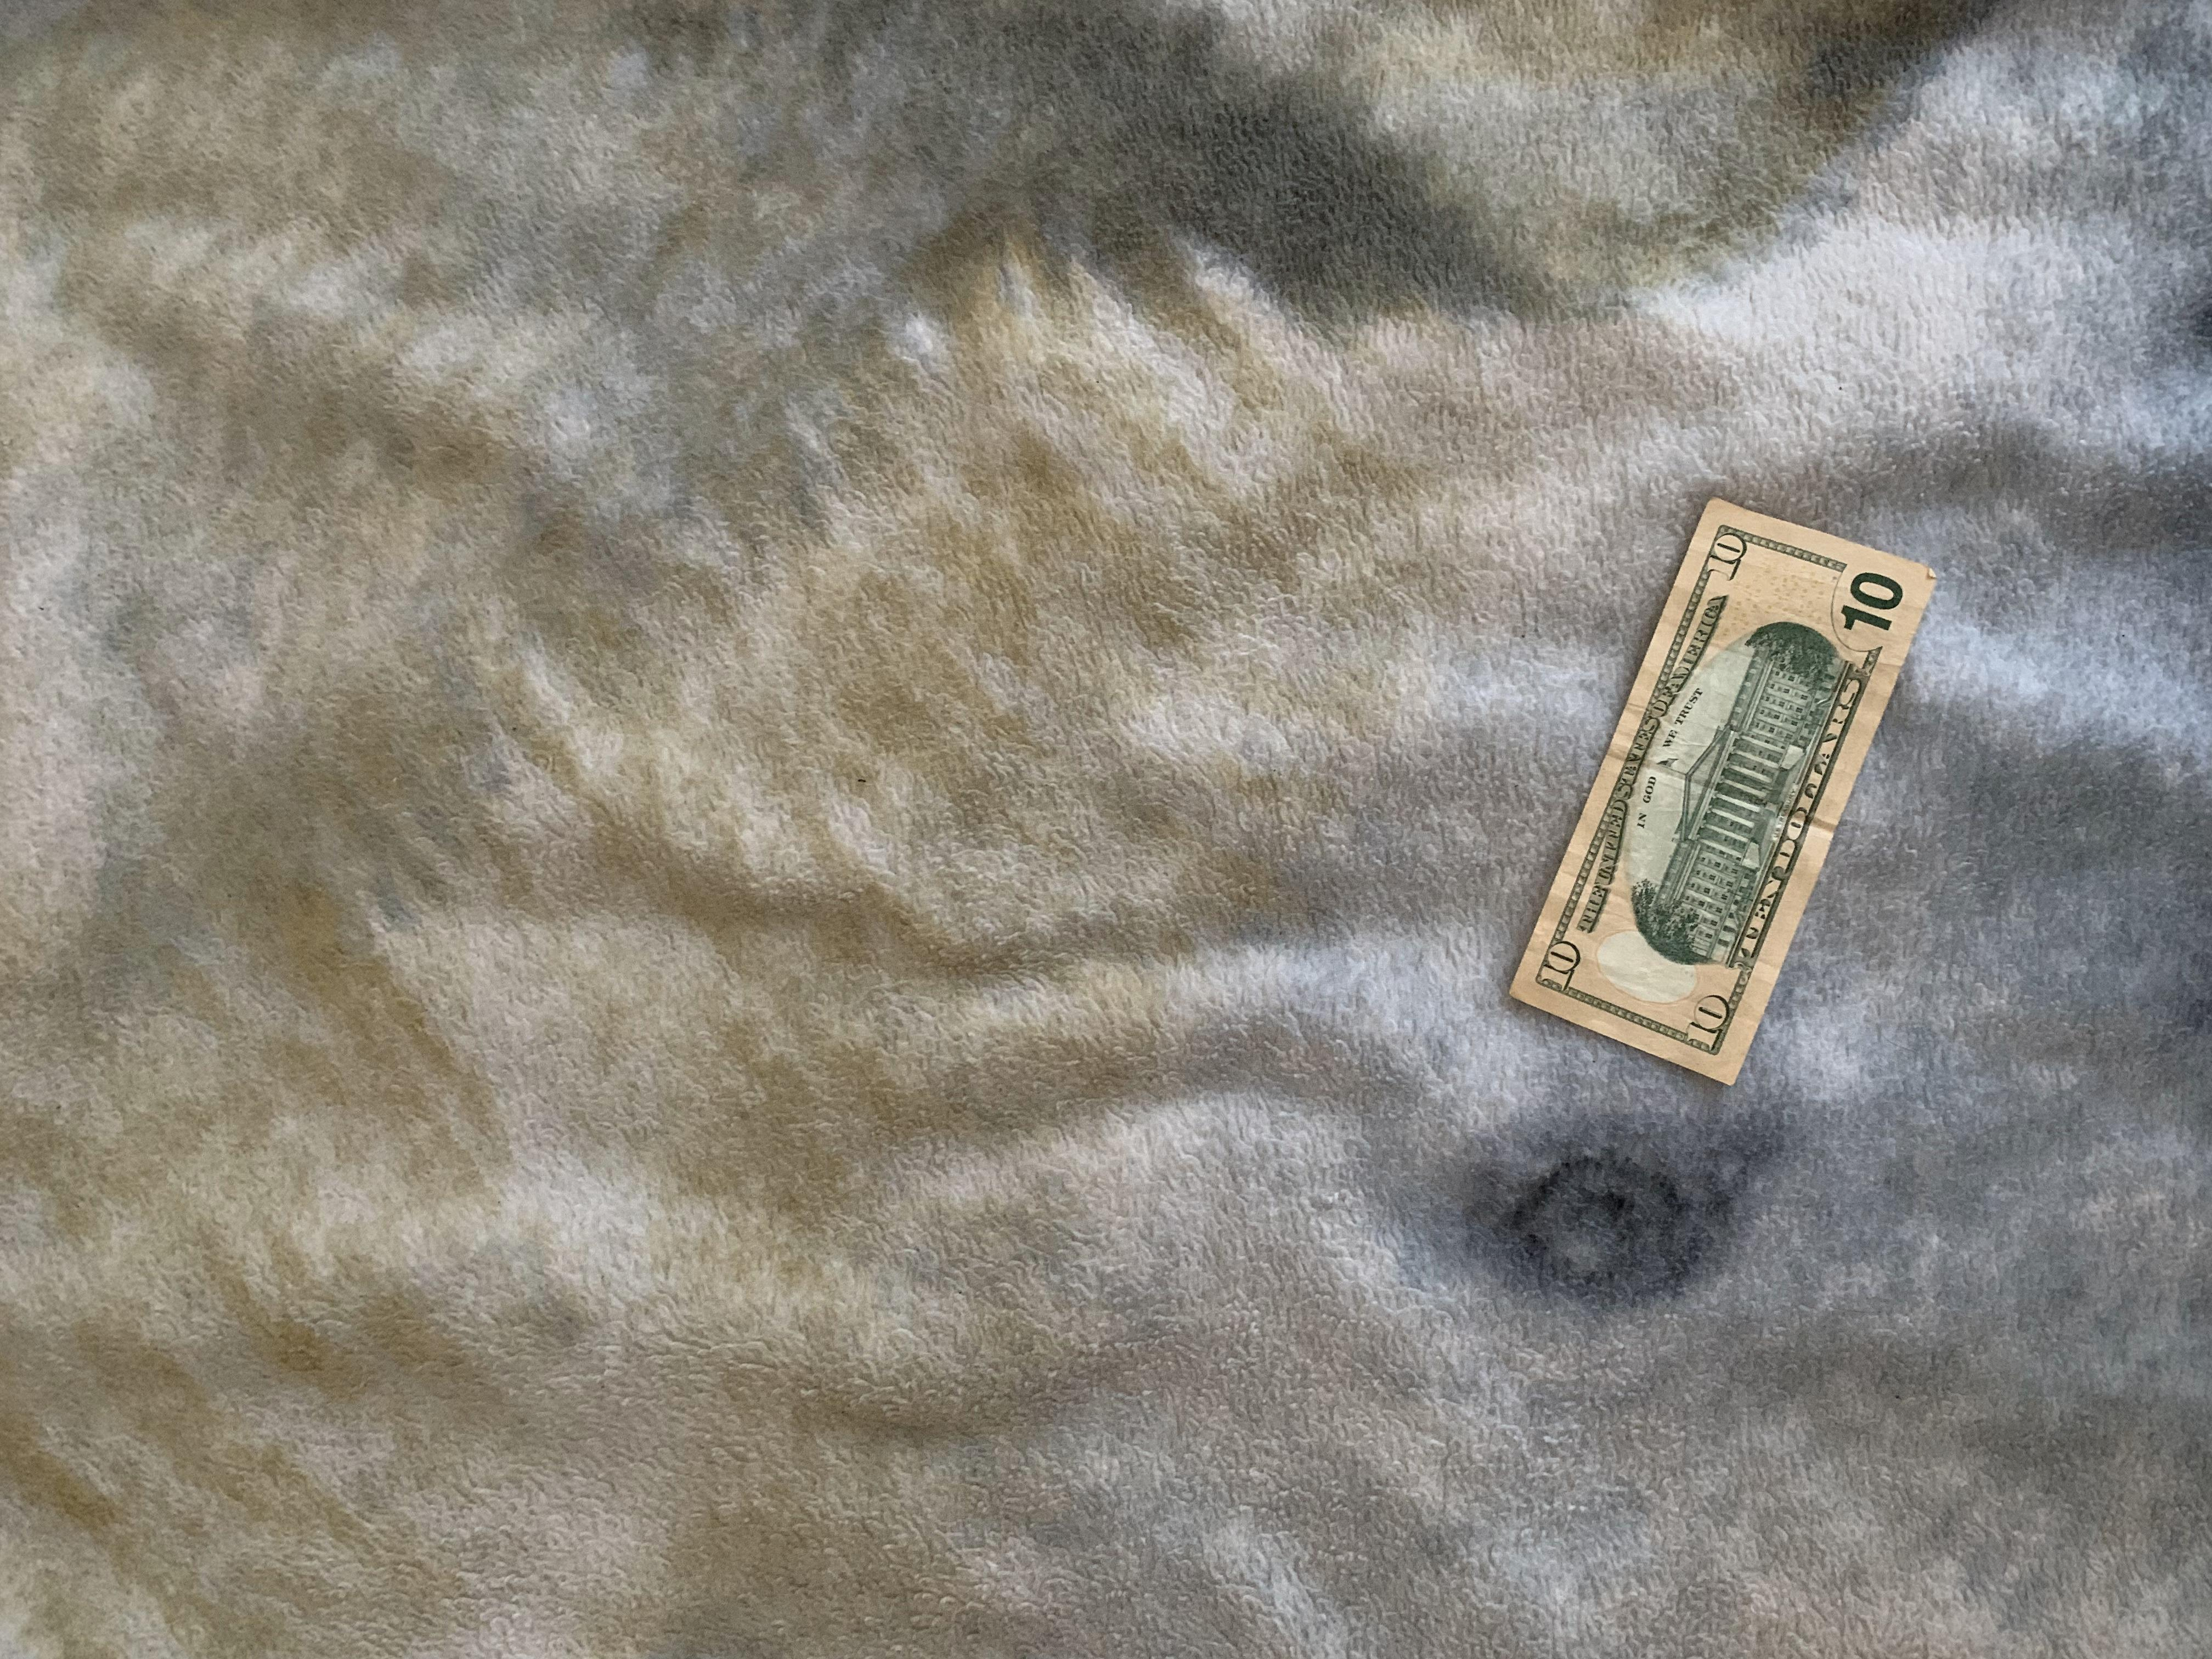TenBill: (1507, 490, 1951, 1094)
